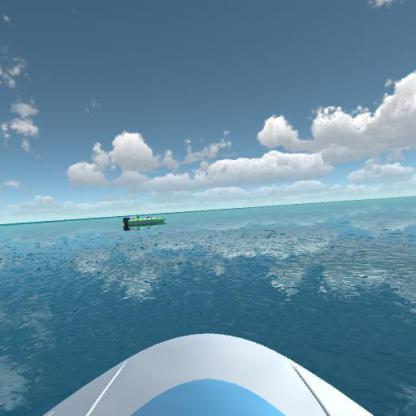usv0: (122, 210, 167, 232)
